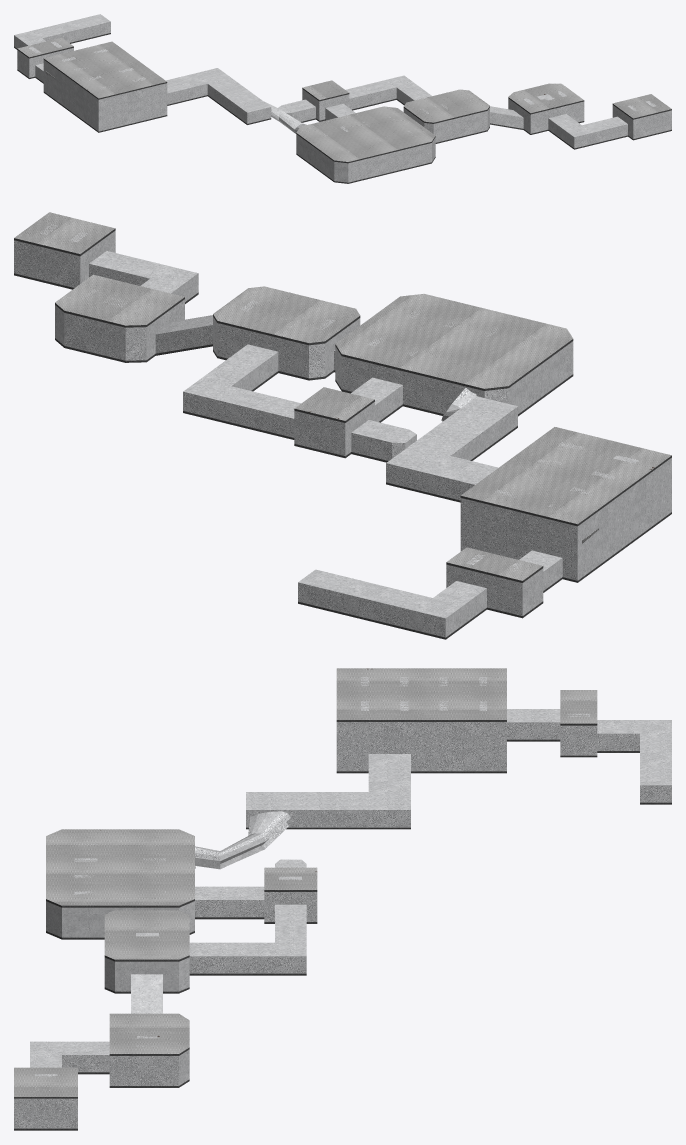
The model's file is the_map.glb.
3 views of the same model, one above another, from view 1: azimuth 30°, elevation 25°; view 2: azimuth 150°, elevation 25°; view 3: azimuth 270°, elevation 25° (orthographic). The views are drawn at different scales.
Visible parts, largest first — view 1: Plane, Plane.002, Plane.001; view 2: Plane, Plane.002, Plane.001; view 3: Plane.002, Plane, Plane.001.
Boxes of the visible parts, x1,y1,x2,y2 form: Plane: (263, 75, 489, 183); Plane.002: (14, 14, 271, 132); Plane.001: (490, 83, 671, 149); Plane: (183, 286, 573, 462); Plane.002: (298, 396, 671, 639); Plane.001: (14, 212, 212, 362); Plane.002: (246, 668, 671, 829); Plane: (46, 811, 317, 993); Plane.001: (14, 974, 189, 1130).
Bounding box in the file's own units: 157 × 22.53 × 124.
Materials: 8 (6 with a texture image).
